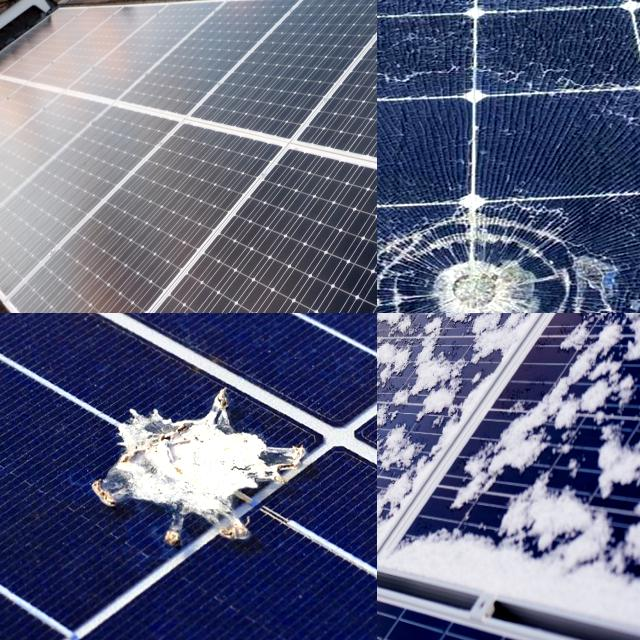bird: (92, 378, 320, 558)
crack: (0, 113, 291, 313), (69, 179, 377, 313), (279, 0, 377, 192)
hotspot: (377, 180, 639, 313)
panel: (514, 393, 592, 547), (397, 526, 532, 610), (562, 313, 640, 415), (547, 556, 640, 640), (594, 421, 640, 589), (377, 382, 459, 474), (445, 437, 513, 542), (463, 313, 561, 385), (377, 459, 439, 558), (377, 423, 431, 529), (377, 350, 432, 436), (377, 313, 461, 369), (521, 313, 640, 348), (377, 334, 424, 412), (377, 354, 419, 427), (377, 427, 417, 501), (377, 313, 428, 362), (377, 424, 421, 480), (420, 313, 520, 334), (377, 313, 419, 359), (377, 313, 428, 350), (434, 313, 504, 339), (377, 313, 421, 353), (377, 313, 430, 345), (377, 441, 411, 487), (377, 313, 423, 339)
